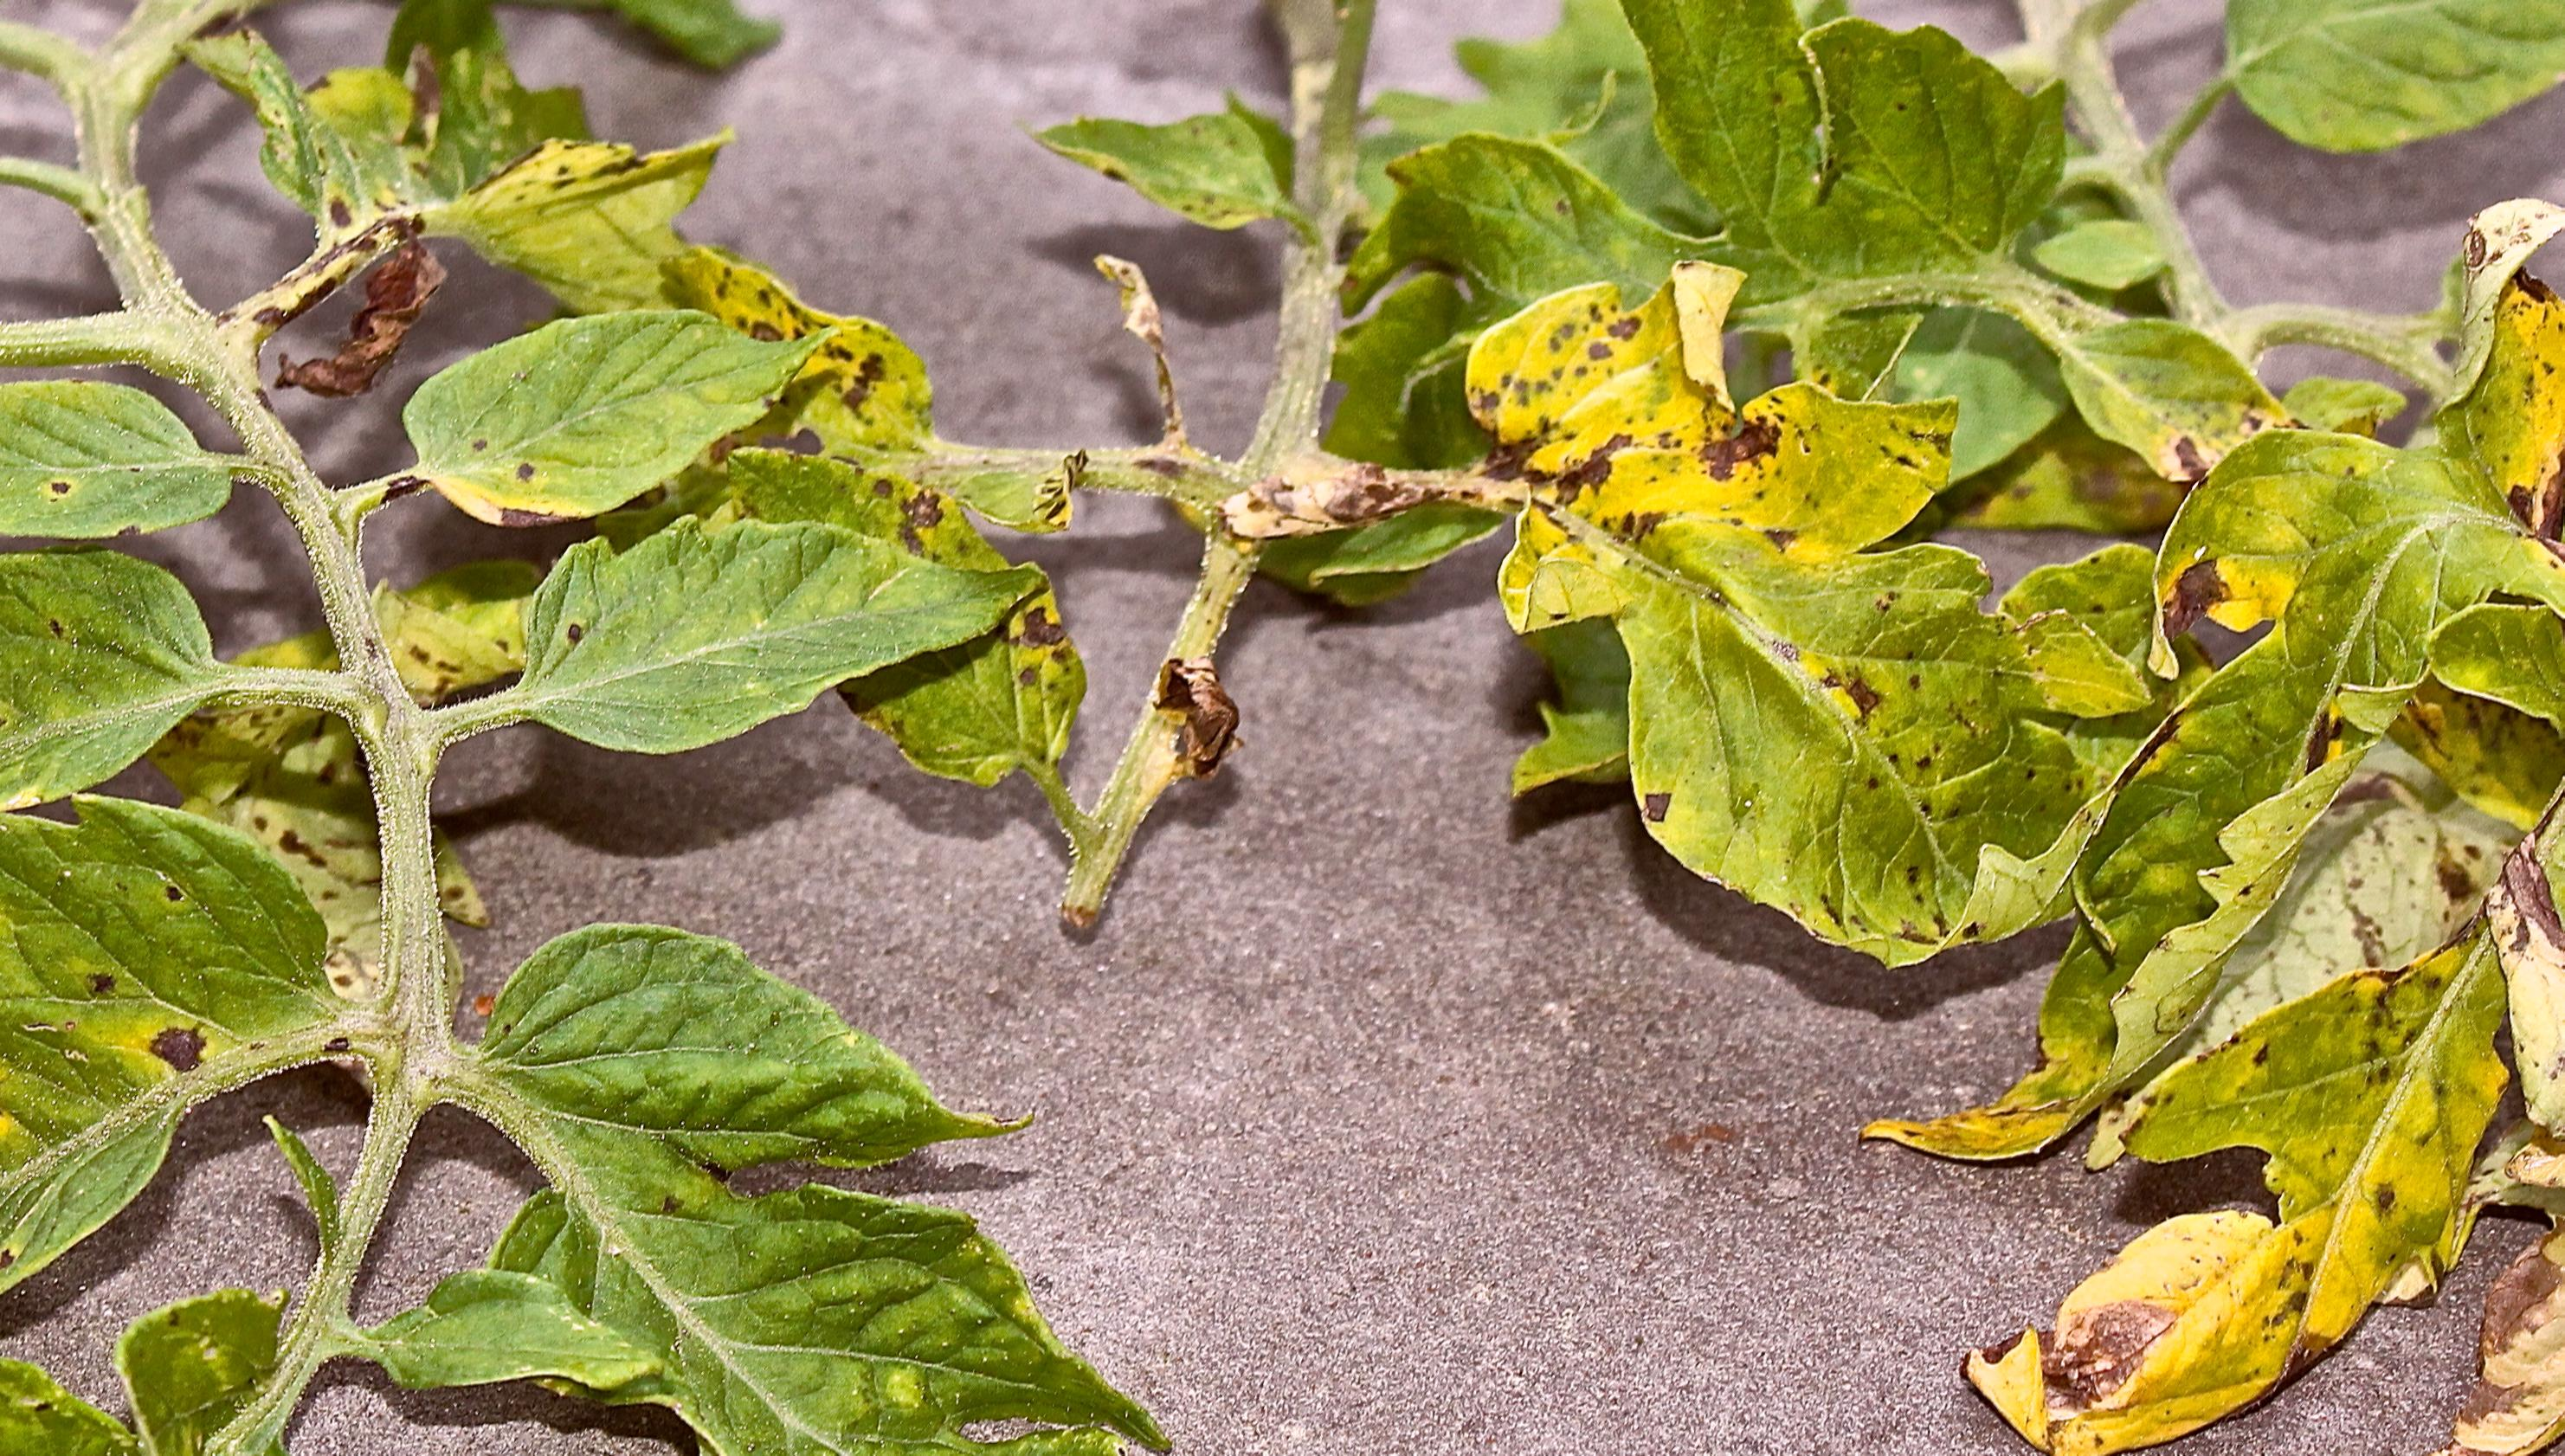Tomato Septoria leaf spot: (1395, 310, 2086, 942), (439, 956, 1281, 1456), (1954, 833, 2565, 1456), (0, 810, 363, 1361)
